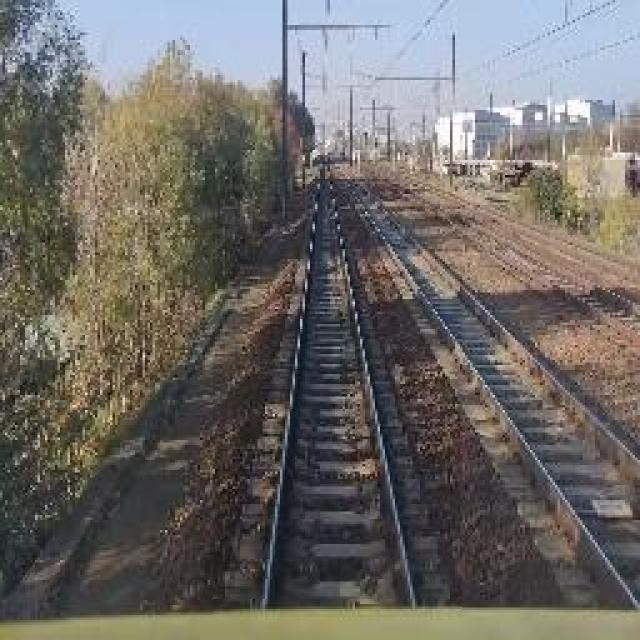rail: (215, 162, 463, 618)
